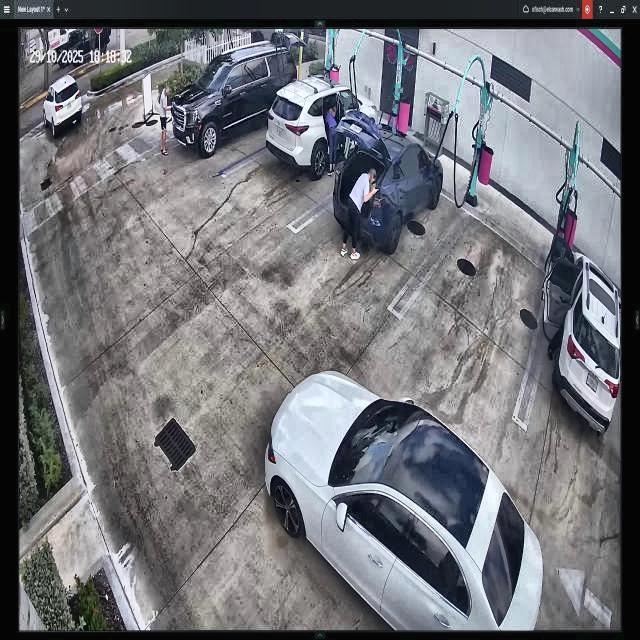Car: (264, 373, 542, 632), (334, 117, 444, 246), (172, 46, 296, 156), (267, 74, 380, 177)
